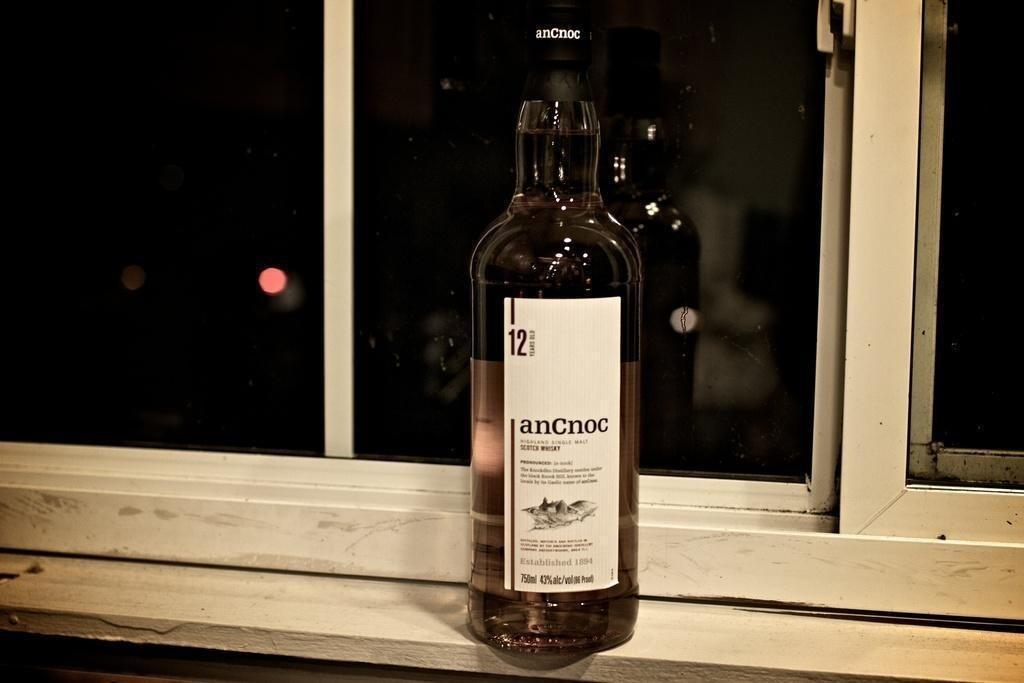bottle-glass: (458, 3, 647, 660)
